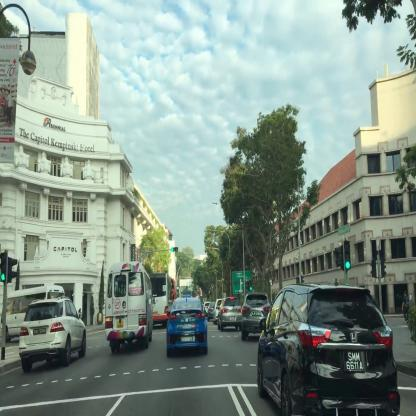green_traffic_light: (344, 242, 350, 269), (0, 254, 5, 280), (249, 279, 252, 291), (170, 247, 178, 251)
